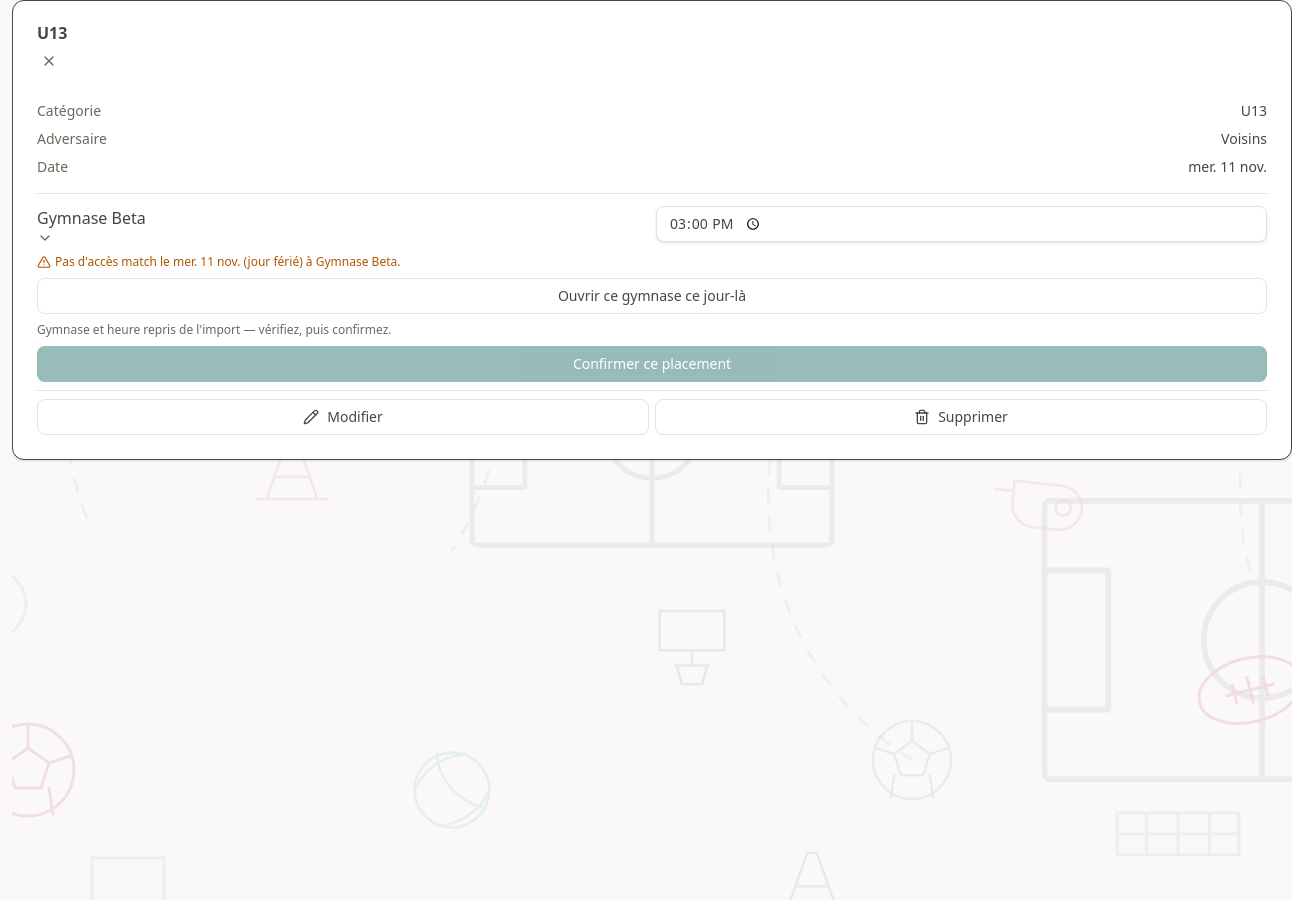
PlacementPanel — le gymnase importé reste (D6) › un gymnase importé hors de la liste filtrée reste choisi, avec sa sous-ligne, jamais remplacé en silence
Click the button "Gymnase Beta".
click(91, 226)  # box [37,206,146,246]
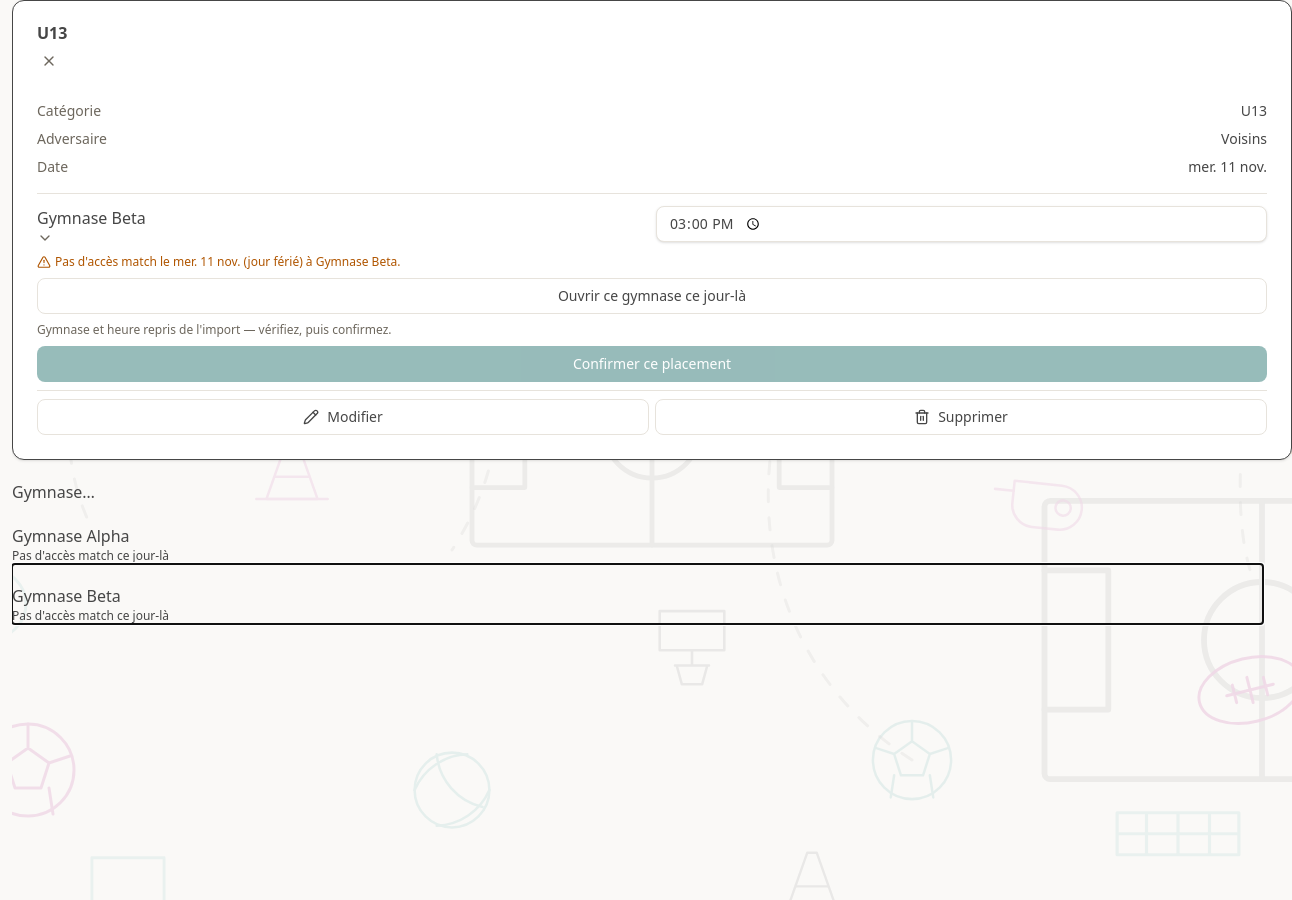
Expected: the option "Gymnase Beta Pas d'accès match ce jour-là" is shown, [12,585,169,624]
